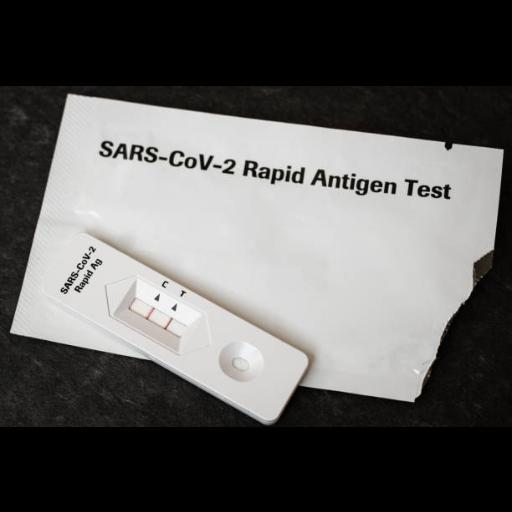Pos: (40, 231, 311, 422)
